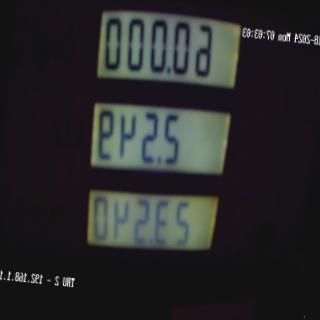screen: (66, 0, 245, 294)
